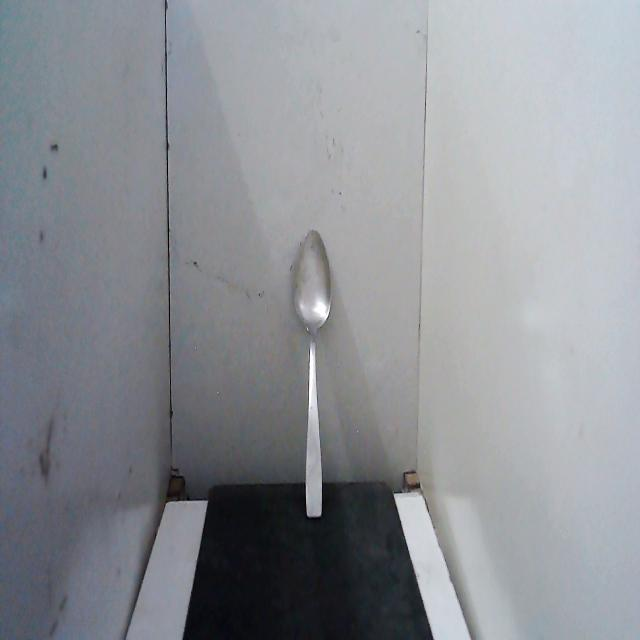metal: (289, 224, 341, 524)
